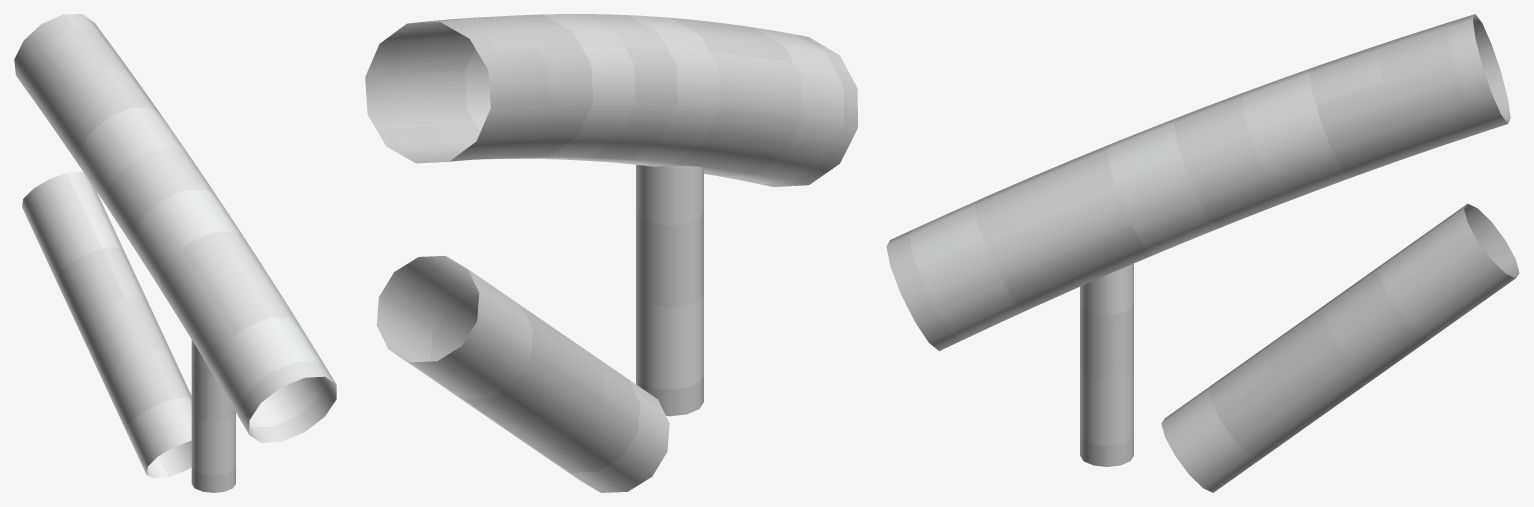
The model's file is luminairearm_truss10ftdouble_c4.obj.
3 renders of one model, left to right at view 1: azimuth 30°, elevation 25°; view 2: azimuth 150°, elevation 25°; view 3: azimuth 270°, elevation 25°, orthographic. The views are drawn at different scales.
Visible parts, largest first — view 1: luminairearm_truss10ftdouble_c4; view 2: luminairearm_truss10ftdouble_c4; view 3: luminairearm_truss10ftdouble_c4.
Boxes of the visible parts, x1,y1,x2,y2 form: luminairearm_truss10ftdouble_c4: [14, 14, 336, 492]; luminairearm_truss10ftdouble_c4: [365, 14, 857, 492]; luminairearm_truss10ftdouble_c4: [886, 14, 1519, 492].
Bounding box in the file's own units: 0.2125 × 0.8952 × 1.1.
